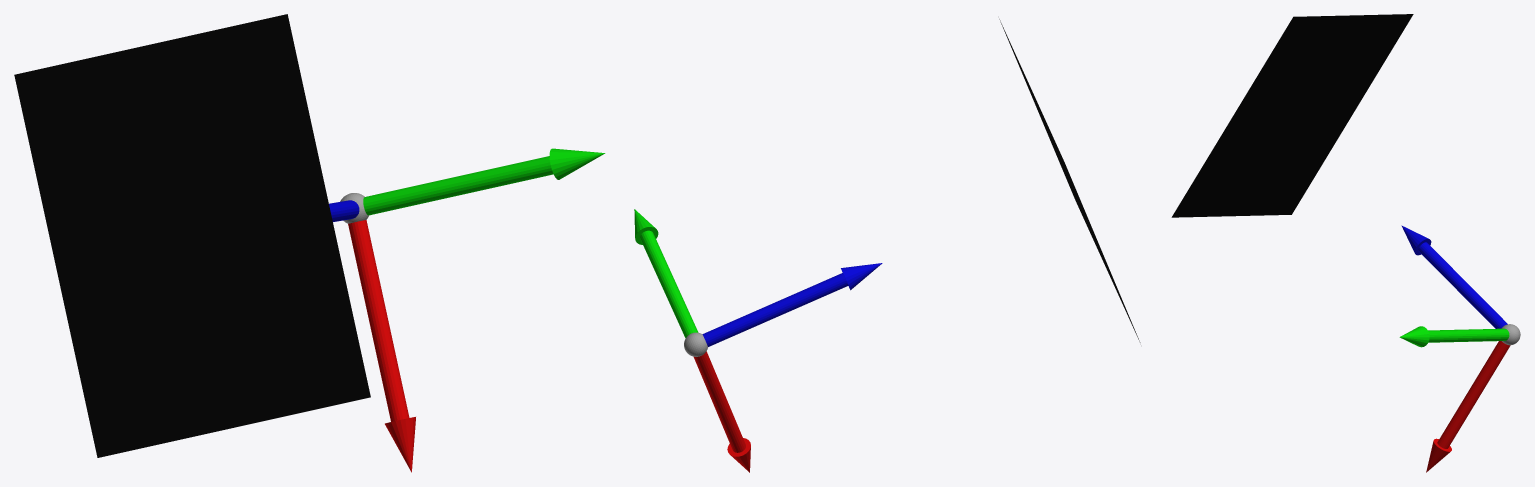
The picture shows the model from 3 angles, left to right: view 1: azimuth 30°, elevation 25°; view 2: azimuth 150°, elevation 25°; view 3: azimuth 270°, elevation 25°; orthographic projection. The views are drawn at different scales.
Bounding box in the file's own units: 0.3155 × 0.3005 × 0.2474.
